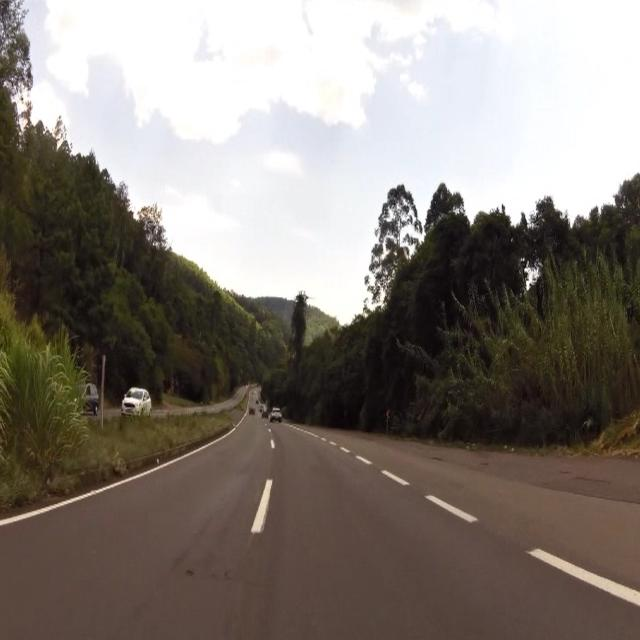Del: (385, 407, 392, 424)
